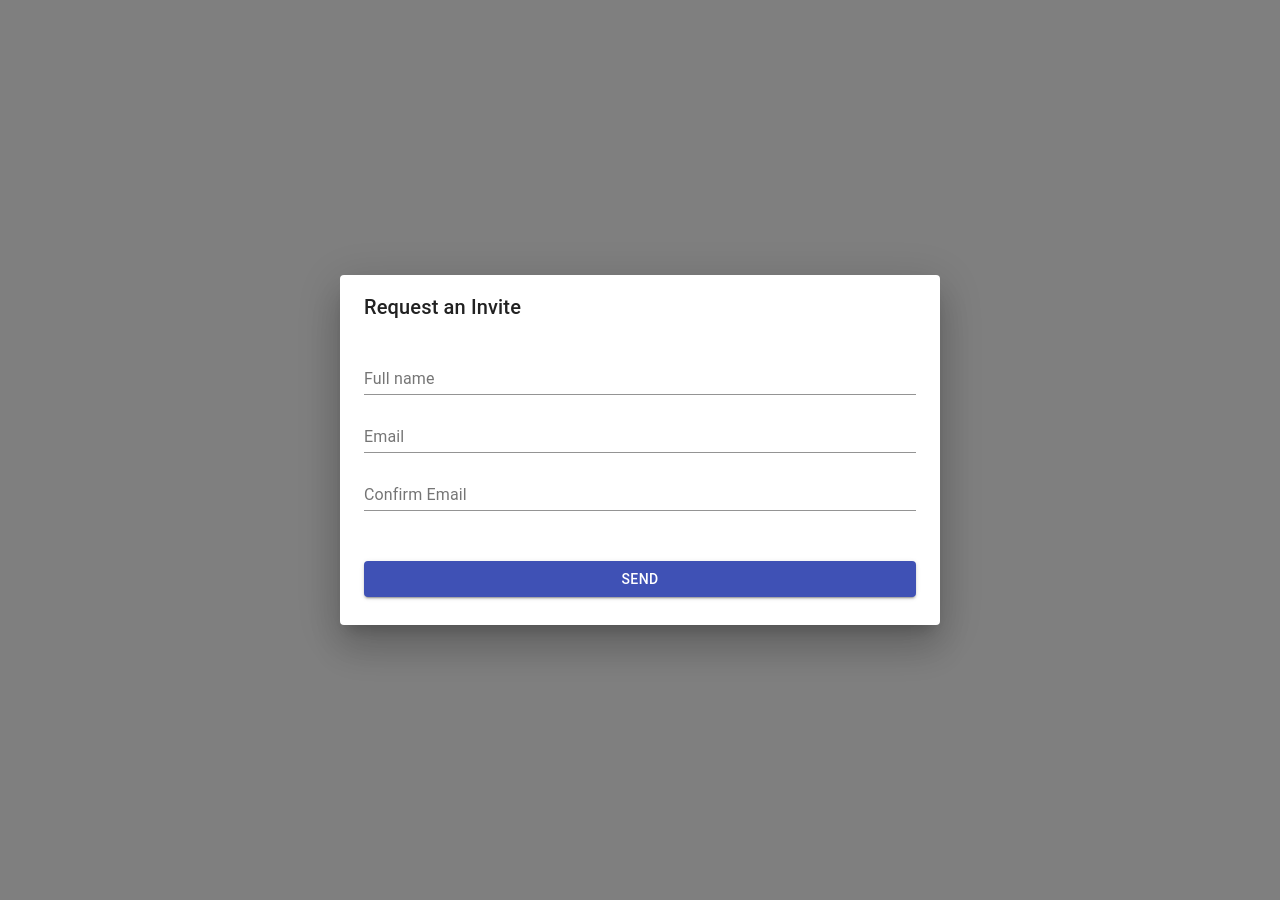
Test: Should show error on bad input › All empty
Click the button "Send": [640, 579] box [364,561,916,597]
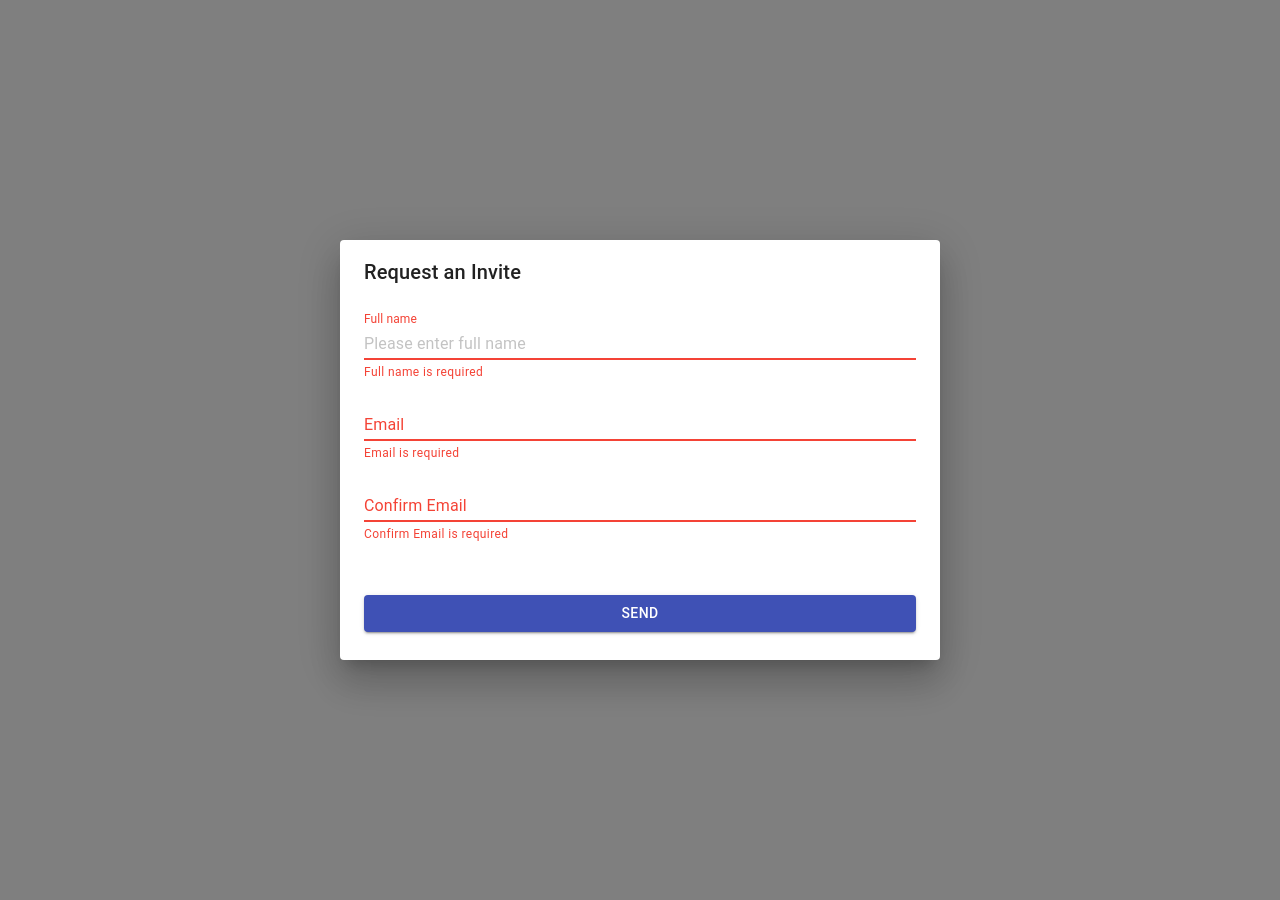
expect the text "Full name is required" is shown: met, box [364,365,483,379]
expect the text "Email is required" is shown: met, box [364,446,459,460]
expect the text "Confirm Email is required" is shown: met, box [364,527,508,541]
